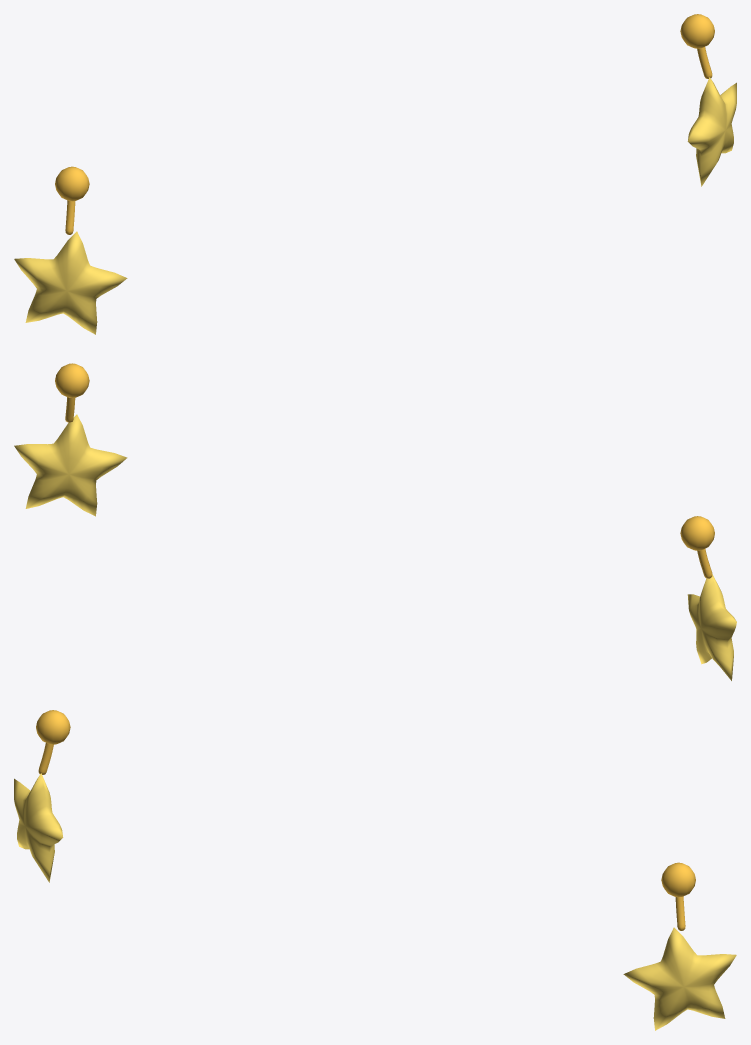
Rendered from earring-star.glb.
3 renders of one model, top to bottom at view 1: azimuth 30°, elevation 25°; view 2: azimuth 150°, elevation 25°; view 3: azimuth 330°, elevation 25°, orthographic.
Visible parts, largest first — view 1: earring-star-mesh; view 2: earring-star-mesh; view 3: earring-star-mesh.
Boxes of the visible parts, bbox=[...] form: earring-star-mesh: bbox=[14, 14, 736, 334]; earring-star-mesh: bbox=[14, 363, 736, 680]; earring-star-mesh: bbox=[14, 710, 736, 1030].
Bounding box in the file's own units: 2.16 × 0.4544 × 0.1668.
